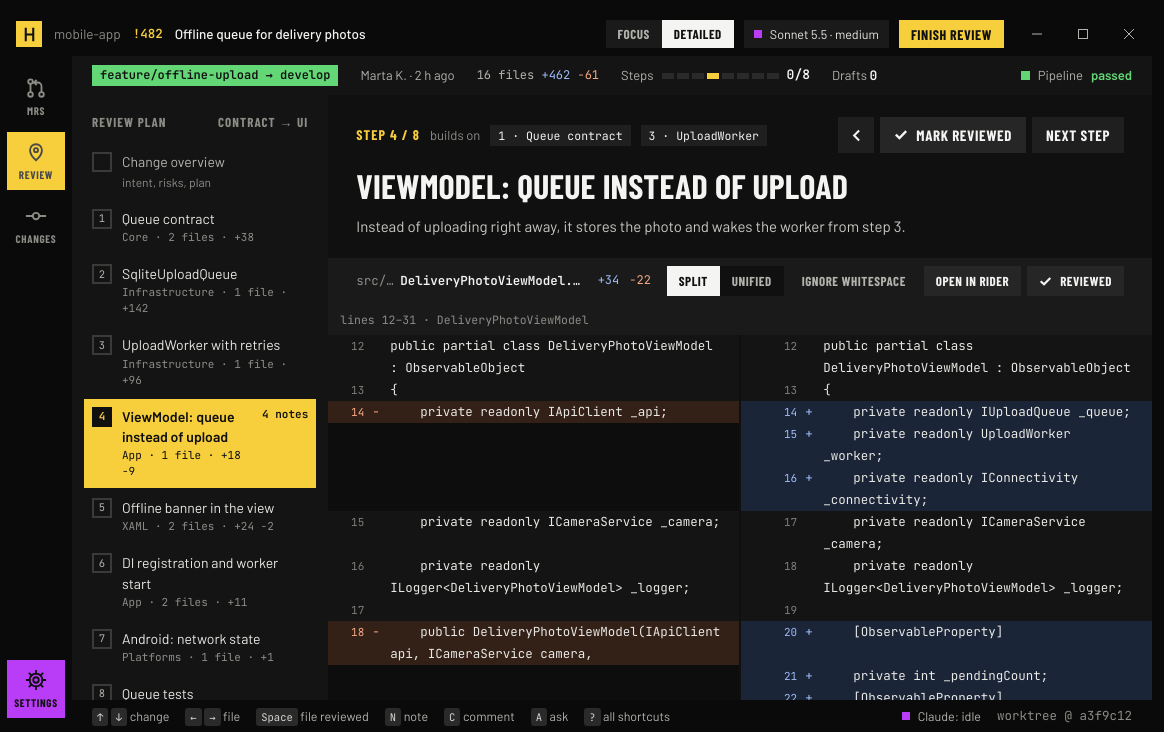
Test: S-04 file bar (F-08.5) › F-08.5 Open in Rider failing shows the error under the bar
Expected: the heading "ViewModel: queue instead of upload" is shown, [356, 165, 848, 206]
Click the button "Open in Rider".
click(973, 281)  # box [924, 266, 1021, 296]
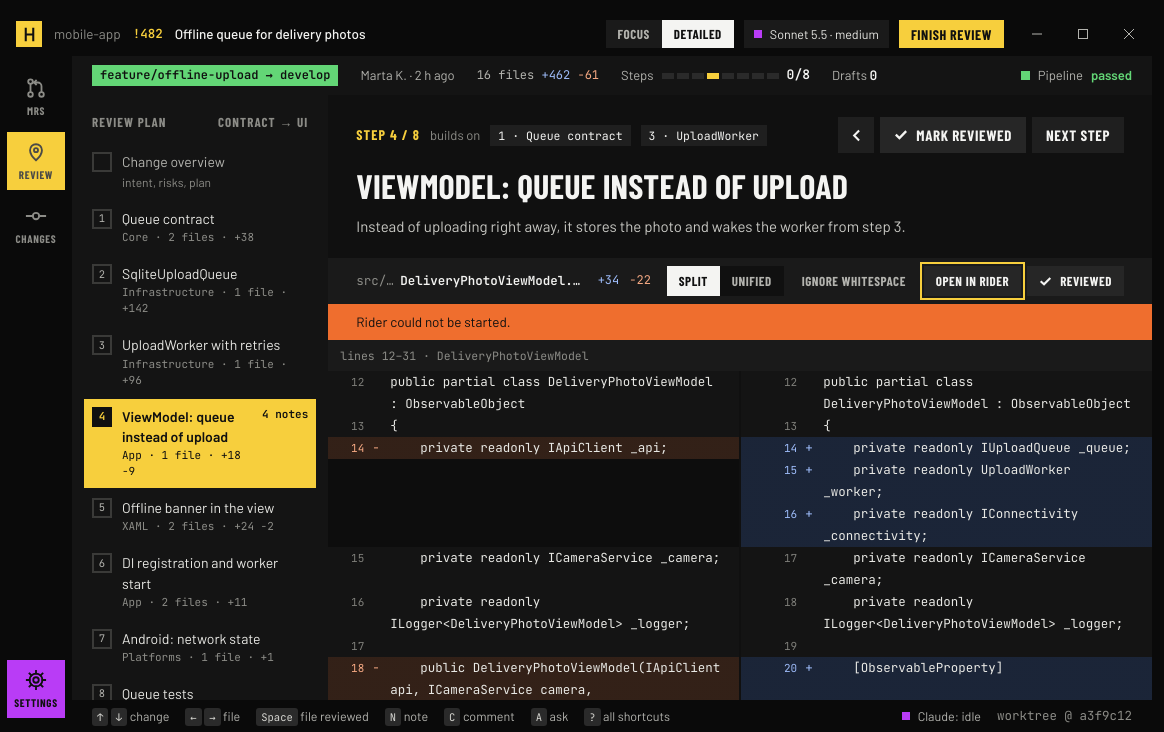
Now the message reads "Rider could not be started.", box [356, 313, 511, 330]
